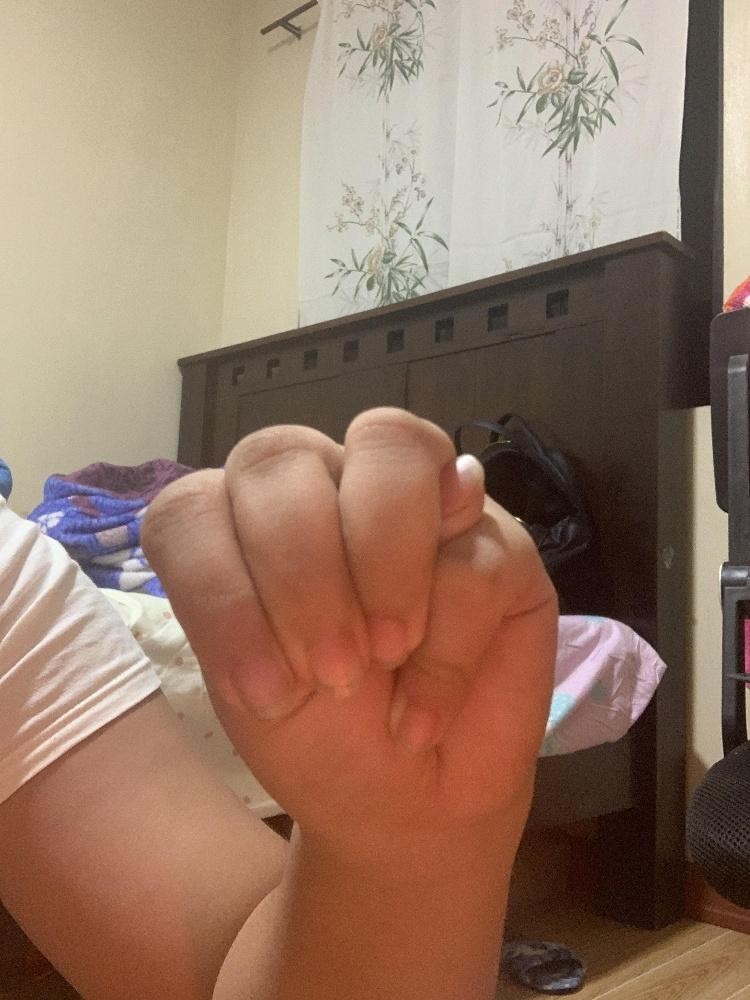m: (136, 404, 561, 838)
